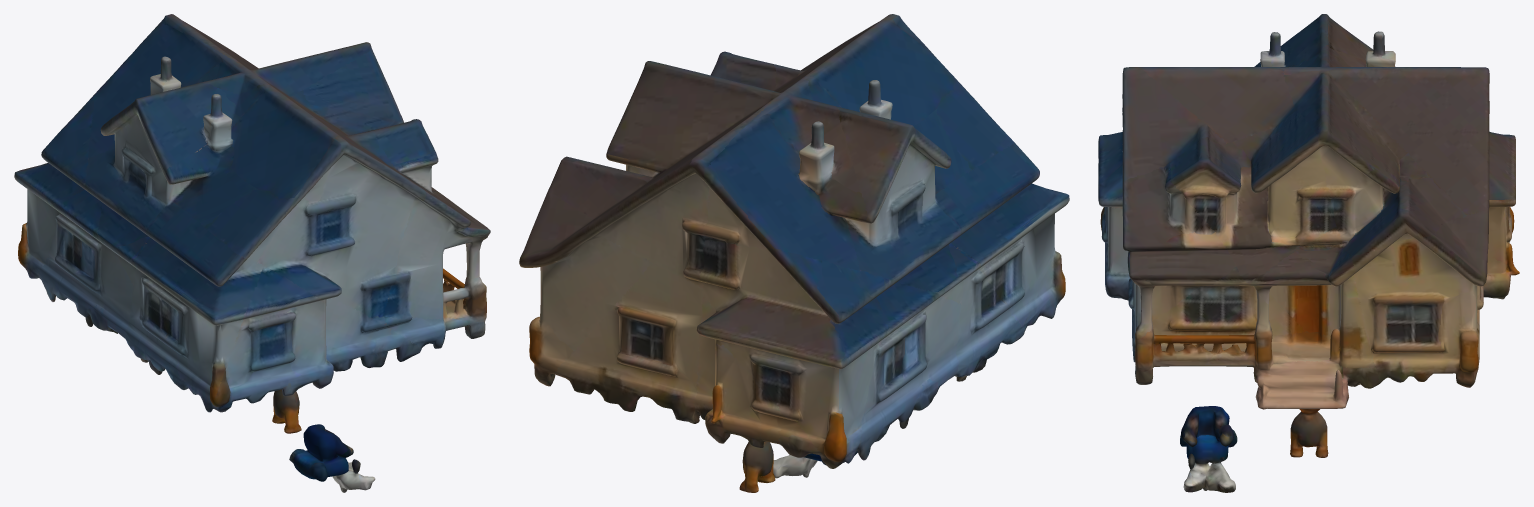
The model's file is home_modern.glb.
3 renders of one model, left to right at view 1: azimuth 30°, elevation 25°; view 2: azimuth 150°, elevation 25°; view 3: azimuth 270°, elevation 25°, orthographic. The views are drawn at different scales.
Visible parts, largest first — view 1: tripo_node_89b3218e-4f79-4c94-93a5-ace8b3e9571a; view 2: tripo_node_89b3218e-4f79-4c94-93a5-ace8b3e9571a; view 3: tripo_node_89b3218e-4f79-4c94-93a5-ace8b3e9571a.
Boxes of the visible parts, x1=… form: tripo_node_89b3218e-4f79-4c94-93a5-ace8b3e9571a: x1=14, y1=14, x2=490, y2=492; tripo_node_89b3218e-4f79-4c94-93a5-ace8b3e9571a: x1=519, y1=14, x2=1069, y2=492; tripo_node_89b3218e-4f79-4c94-93a5-ace8b3e9571a: x1=1098, y1=14, x2=1519, y2=492.
Size of the model in its own units: 0.7877 by 0.9479 by 0.8811.
1 material, 1 textured.
